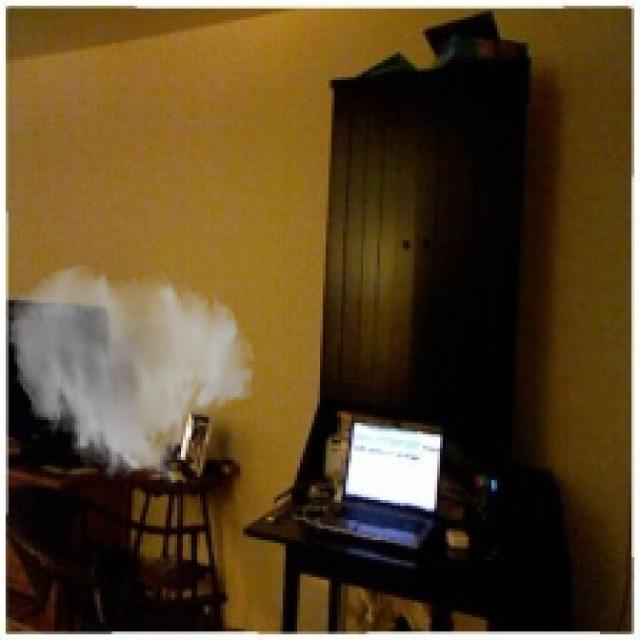Smoke: (2, 263, 258, 486)
